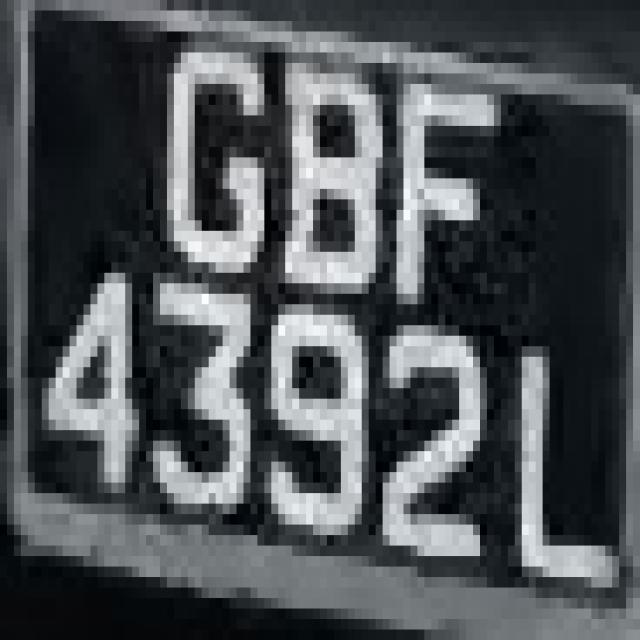2: (369, 284, 494, 608)
3: (126, 199, 264, 514)
4: (14, 210, 153, 535)
9: (258, 294, 390, 588)
B: (272, 42, 396, 346)
F: (389, 42, 501, 304)
G: (160, 0, 271, 315)
L: (506, 323, 639, 594), (5, 5, 7, 11)
